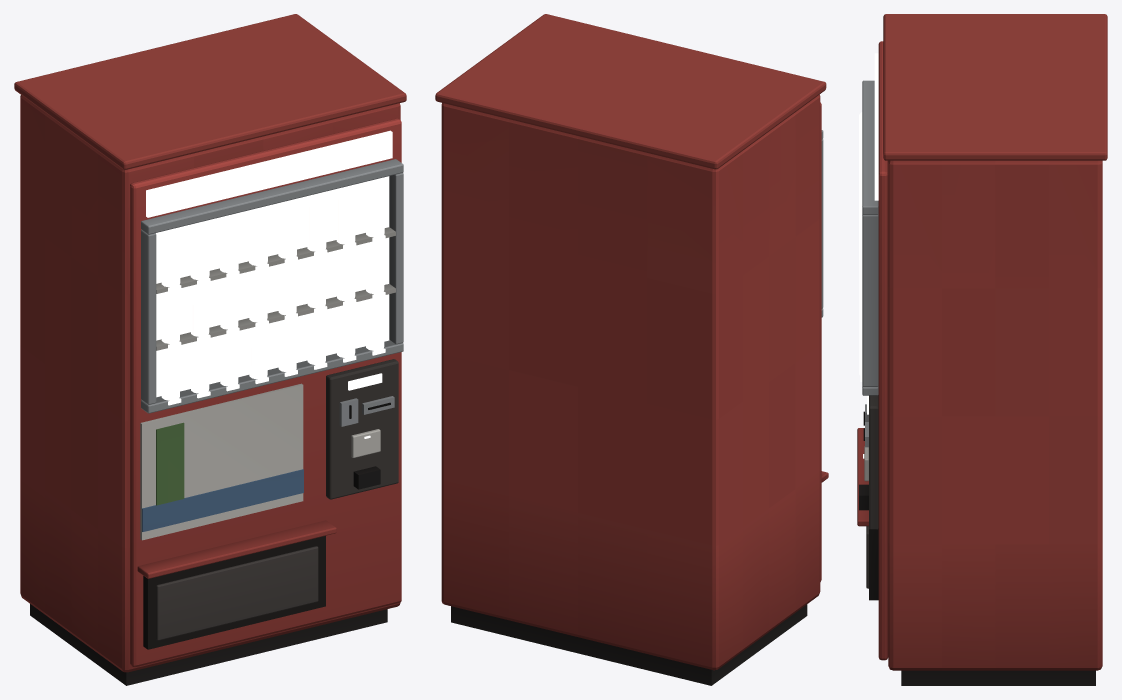
File: prop_vending_machine_01.glb
3 views of the same model, side by side, from view 1: azimuth 30°, elevation 25°; view 2: azimuth 150°, elevation 25°; view 3: azimuth 270°, elevation 25° (orthographic).
Visible parts, largest first — view 1: prop_vending_machine_01; view 2: prop_vending_machine_01; view 3: prop_vending_machine_01.
Part boxes in pixels (x1,y1,x2,y2): prop_vending_machine_01: (14,14,406,685); prop_vending_machine_01: (435,14,828,685); prop_vending_machine_01: (857,14,1107,685).
Bounding box in the file's own units: 1.02 × 1.83 × 0.77.
